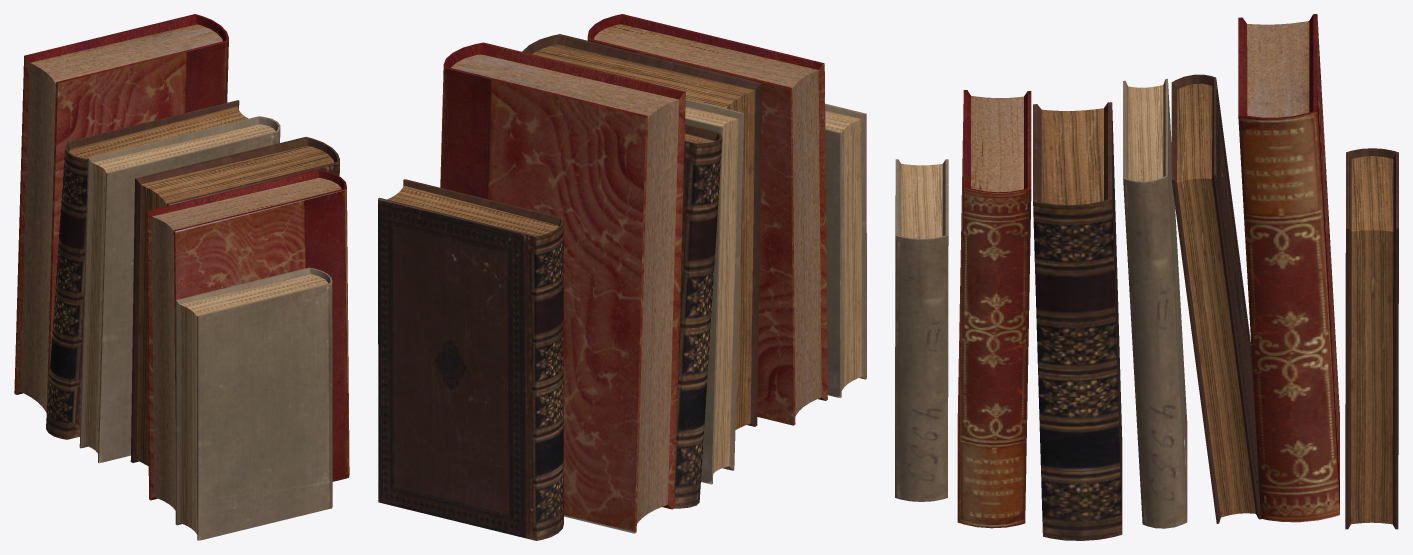
File: pack1_bouquins1.fbx
3 renders of one model, left to right at view 1: azimuth 30°, elevation 25°; view 2: azimuth 150°, elevation 25°; view 3: azimuth 270°, elevation 25°, orthographic. The views are drawn at different scales.
Parts seen in each view (by area): view 1: pack1_01; view 2: pack1_01; view 3: pack1_01.
Part boxes in pixels (bbox=[...]): pack1_01: bbox=[14, 14, 349, 540]; pack1_01: bbox=[378, 14, 866, 540]; pack1_01: bbox=[895, 14, 1398, 540].
Bounding box in the file's own units: 35.6 × 56.48 × 62.49.
Materials: 1 (1 with a texture image).
